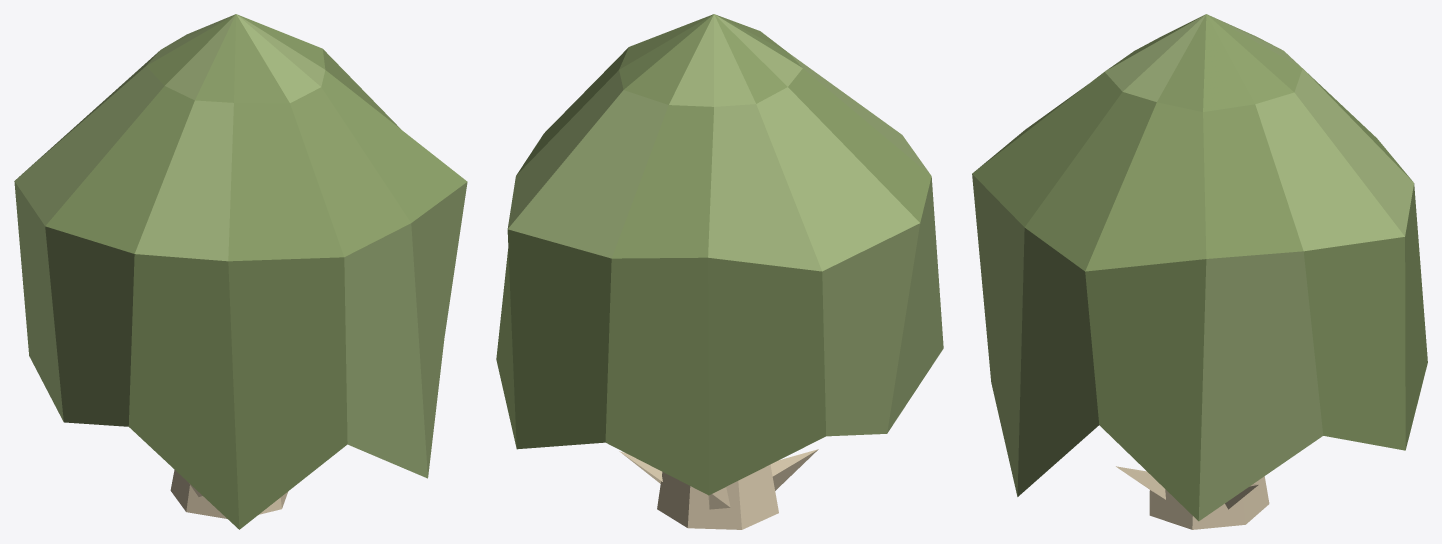
File: tree_mahogany.glb
3 renders of one model, left to right at view 1: azimuth 30°, elevation 25°; view 2: azimuth 150°, elevation 25°; view 3: azimuth 270°, elevation 25°, orthographic. The views are drawn at different scales.
Visible parts, largest first — view 1: tree_mahogany; view 2: tree_mahogany; view 3: tree_mahogany.
Part boxes in pixels (box(x1,y1,x2,y2)): tree_mahogany: box(14, 14, 467, 529); tree_mahogany: box(496, 14, 943, 529); tree_mahogany: box(972, 14, 1427, 529).
Bounding box in the file's own units: 3.77 × 4.79 × 3.93.
